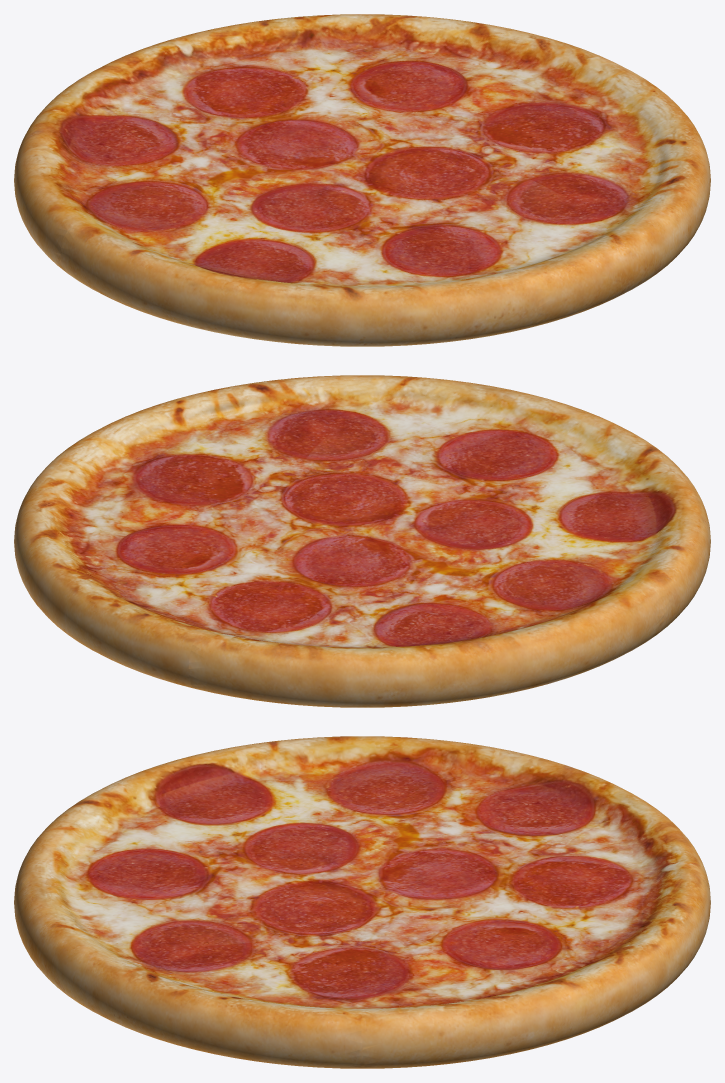
The model's file is Pizzanova.glb.
3 views of the same model, one above another, from view 1: azimuth 30°, elevation 25°; view 2: azimuth 150°, elevation 25°; view 3: azimuth 270°, elevation 25° (orthographic).
Visible parts, largest first — view 1: Object_2.003, Object_2, Object_2.001, Object_2.002; view 2: Object_2.002, Object_2.001, Object_2.003, Object_2; view 3: Object_2.001, Object_2, Object_2.002, Object_2.003.
Part boxes in pixels (box(x1,y1,x2,y2)): Object_2.003: box(60, 167, 539, 346); Object_2: box(362, 85, 710, 326); Object_2.001: box(195, 14, 657, 166); Object_2.002: box(14, 33, 362, 271); Object_2.002: box(189, 526, 663, 707); Object_2.001: box(14, 444, 362, 688); Object_2.003: box(365, 393, 710, 635); Object_2: box(71, 375, 525, 526); Object_2.001: box(359, 875, 710, 1068); Object_2: box(14, 877, 366, 1068); Object_2.002: box(359, 736, 710, 896); Object_2.003: box(14, 736, 360, 903).
Size of the model in its own units: 9.99 by 0.8923 by 9.99.
1 material, 1 textured.
